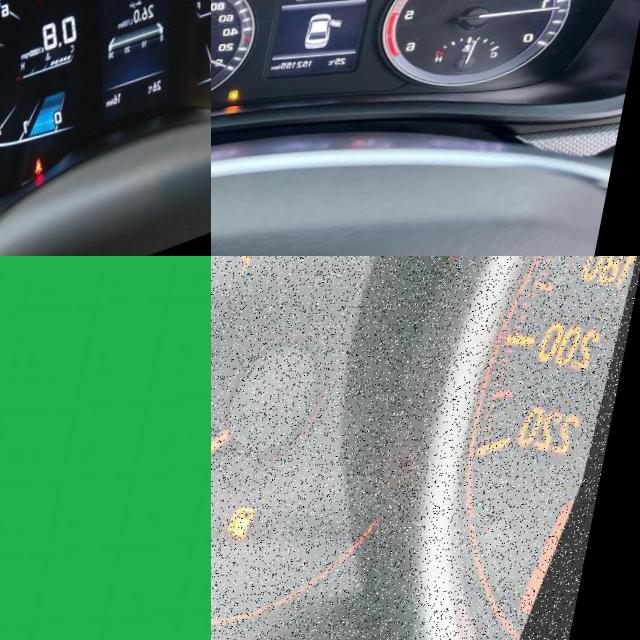Seat Belt: (53, 163, 65, 179)
